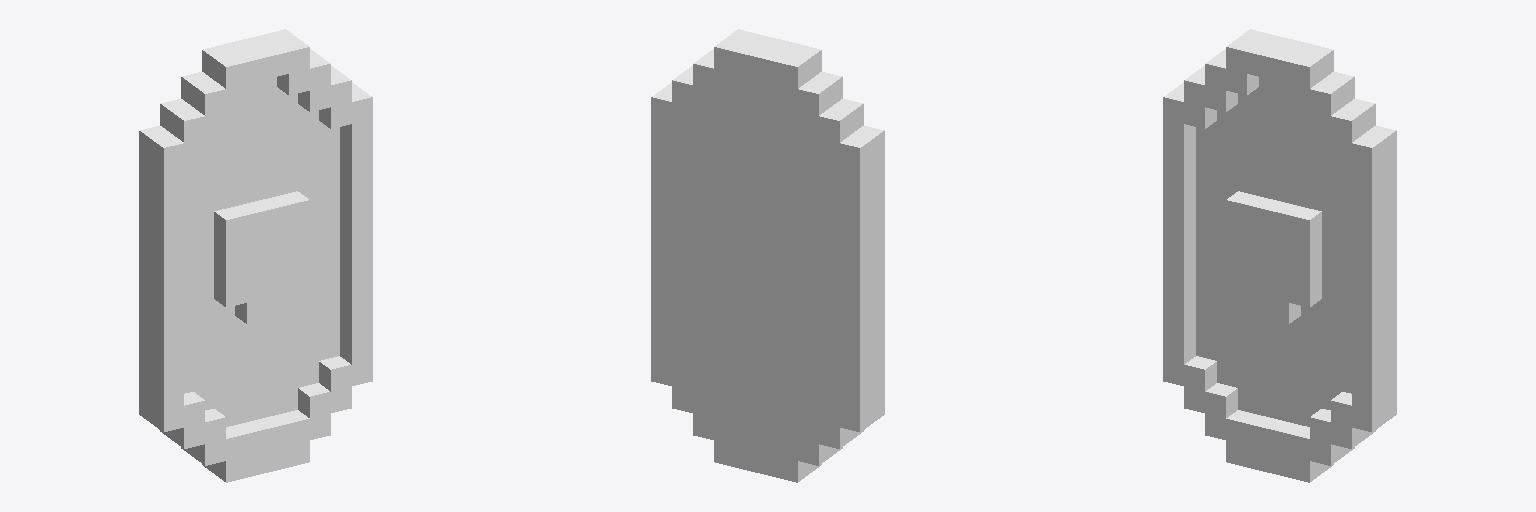
Rendered from shield.obj.
3 renders of one model, left to right at view 1: azimuth 30°, elevation 25°; view 2: azimuth 150°, elevation 25°; view 3: azimuth 330°, elevation 25°, orthographic.
Size of the model in its own units: 10 by 19 by 2.